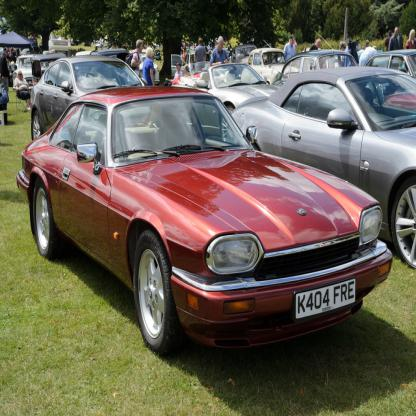Car: (12, 29, 416, 268)
